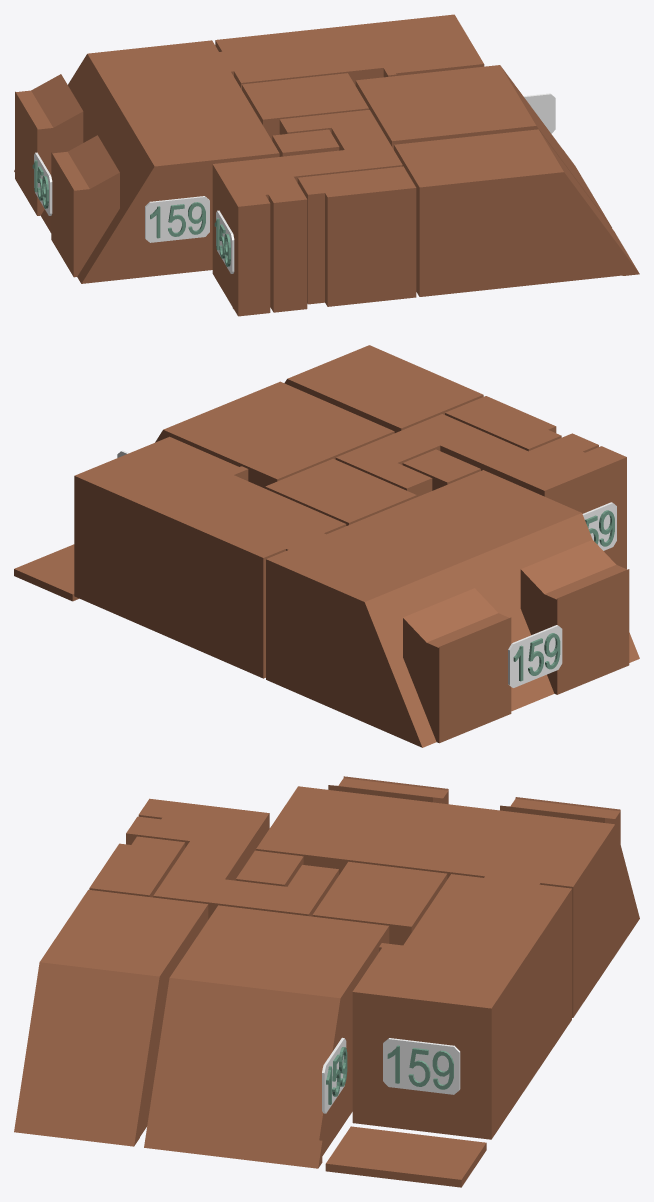
The picture shows the model from 3 angles, top to bottom: view 1: azimuth 30°, elevation 25°; view 2: azimuth 150°, elevation 25°; view 3: azimuth 270°, elevation 25°; orthographic projection. The views are drawn at different scales.
Parts seen in each view (by area): view 1: g_6, g_2, g_4, g_0, g_5, g_1, g_3, g_20, g_7, g_12, g_28, g_24; view 2: g_6, g_5, g_4, g_1, g_2, g_3, g_0, g_8, g_28, g_7, g_24; view 3: g_1, g_5, g_6, g_2, g_4, g_8, g_3, g_0, g_16, g_7, g_12.
Part boxes in pixels (bbox=[...]): g_6: bbox=[14, 40, 279, 283]; g_2: bbox=[394, 129, 639, 296]; g_4: bbox=[212, 109, 402, 316]; g_0: bbox=[297, 166, 416, 306]; g_5: bbox=[215, 14, 484, 89]; g_1: bbox=[355, 65, 611, 227]; g_3: bbox=[242, 73, 368, 140]; g_20: bbox=[145, 196, 209, 242]; g_7: bbox=[272, 129, 339, 156]; g_12: bbox=[523, 93, 555, 133]; g_28: bbox=[34, 152, 52, 215]; g_24: bbox=[216, 210, 234, 273]; g_6: bbox=[266, 470, 639, 747]; g_5: bbox=[74, 436, 346, 678]; g_4: bbox=[335, 414, 626, 568]; g_1: bbox=[155, 381, 394, 488]; g_2: bbox=[284, 345, 483, 432]; g_3: bbox=[265, 458, 416, 525]; g_0: bbox=[445, 396, 561, 451]; g_8: bbox=[14, 544, 79, 601]; g_28: bbox=[508, 625, 562, 687]; g_7: bbox=[402, 449, 480, 490]; g_24: bbox=[582, 502, 616, 550]; g_1: bbox=[144, 905, 389, 1168]; g_5: bbox=[352, 874, 571, 1139]; g_6: bbox=[256, 776, 639, 1017]; g_2: bbox=[14, 889, 208, 1146]; g_4: bbox=[126, 798, 338, 919]; g_8: bbox=[325, 1126, 486, 1187]; g_3: bbox=[312, 861, 447, 945]; g_0: bbox=[89, 836, 185, 897]; g_16: bbox=[383, 1038, 460, 1094]; g_7: bbox=[236, 850, 303, 886]; g_12: bbox=[322, 1037, 346, 1113].
Size of the model in its own units: 12.42 by 2.71 by 11.01.
